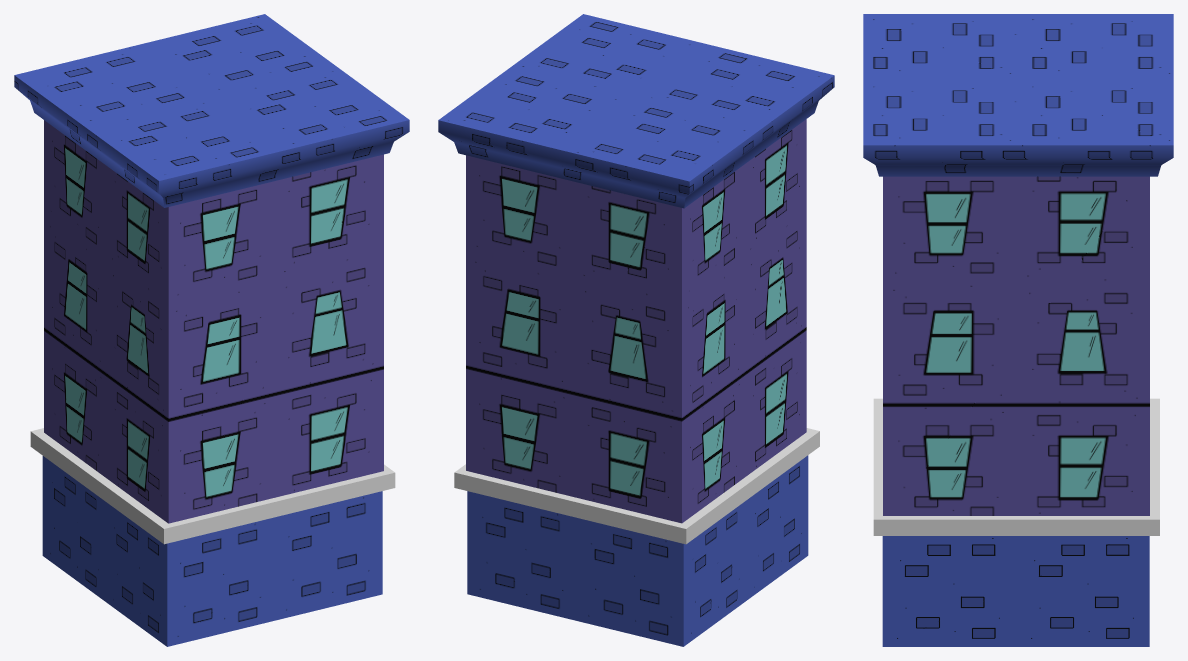
The picture shows the model from 3 angles, left to right: view 1: azimuth 30°, elevation 25°; view 2: azimuth 150°, elevation 25°; view 3: azimuth 270°, elevation 25°; orthographic projection. The views are drawn at different scales.
Parts seen in each view (by area): view 1: Box003, Box004, Box001, Box002; view 2: Box003, Box004, Box001, Box002; view 3: Box003, Box004, Box001, Box002.
Boxes of the visible parts, bbox=[...] form: Box003: bbox=[44, 120, 383, 523]; Box004: bbox=[14, 14, 409, 207]; Box001: bbox=[42, 456, 382, 646]; Box002: bbox=[30, 428, 395, 544]; Box003: bbox=[466, 119, 806, 523]; Box004: bbox=[438, 14, 834, 208]; Box001: bbox=[467, 455, 808, 646]; Box002: bbox=[454, 428, 819, 544]; Box003: bbox=[883, 176, 1149, 515]; Box004: bbox=[863, 14, 1173, 176]; Box001: bbox=[882, 536, 1149, 646]; Box002: bbox=[873, 398, 1159, 535].
Size of the model in its own units: 5.81 by 10.56 by 5.81.
